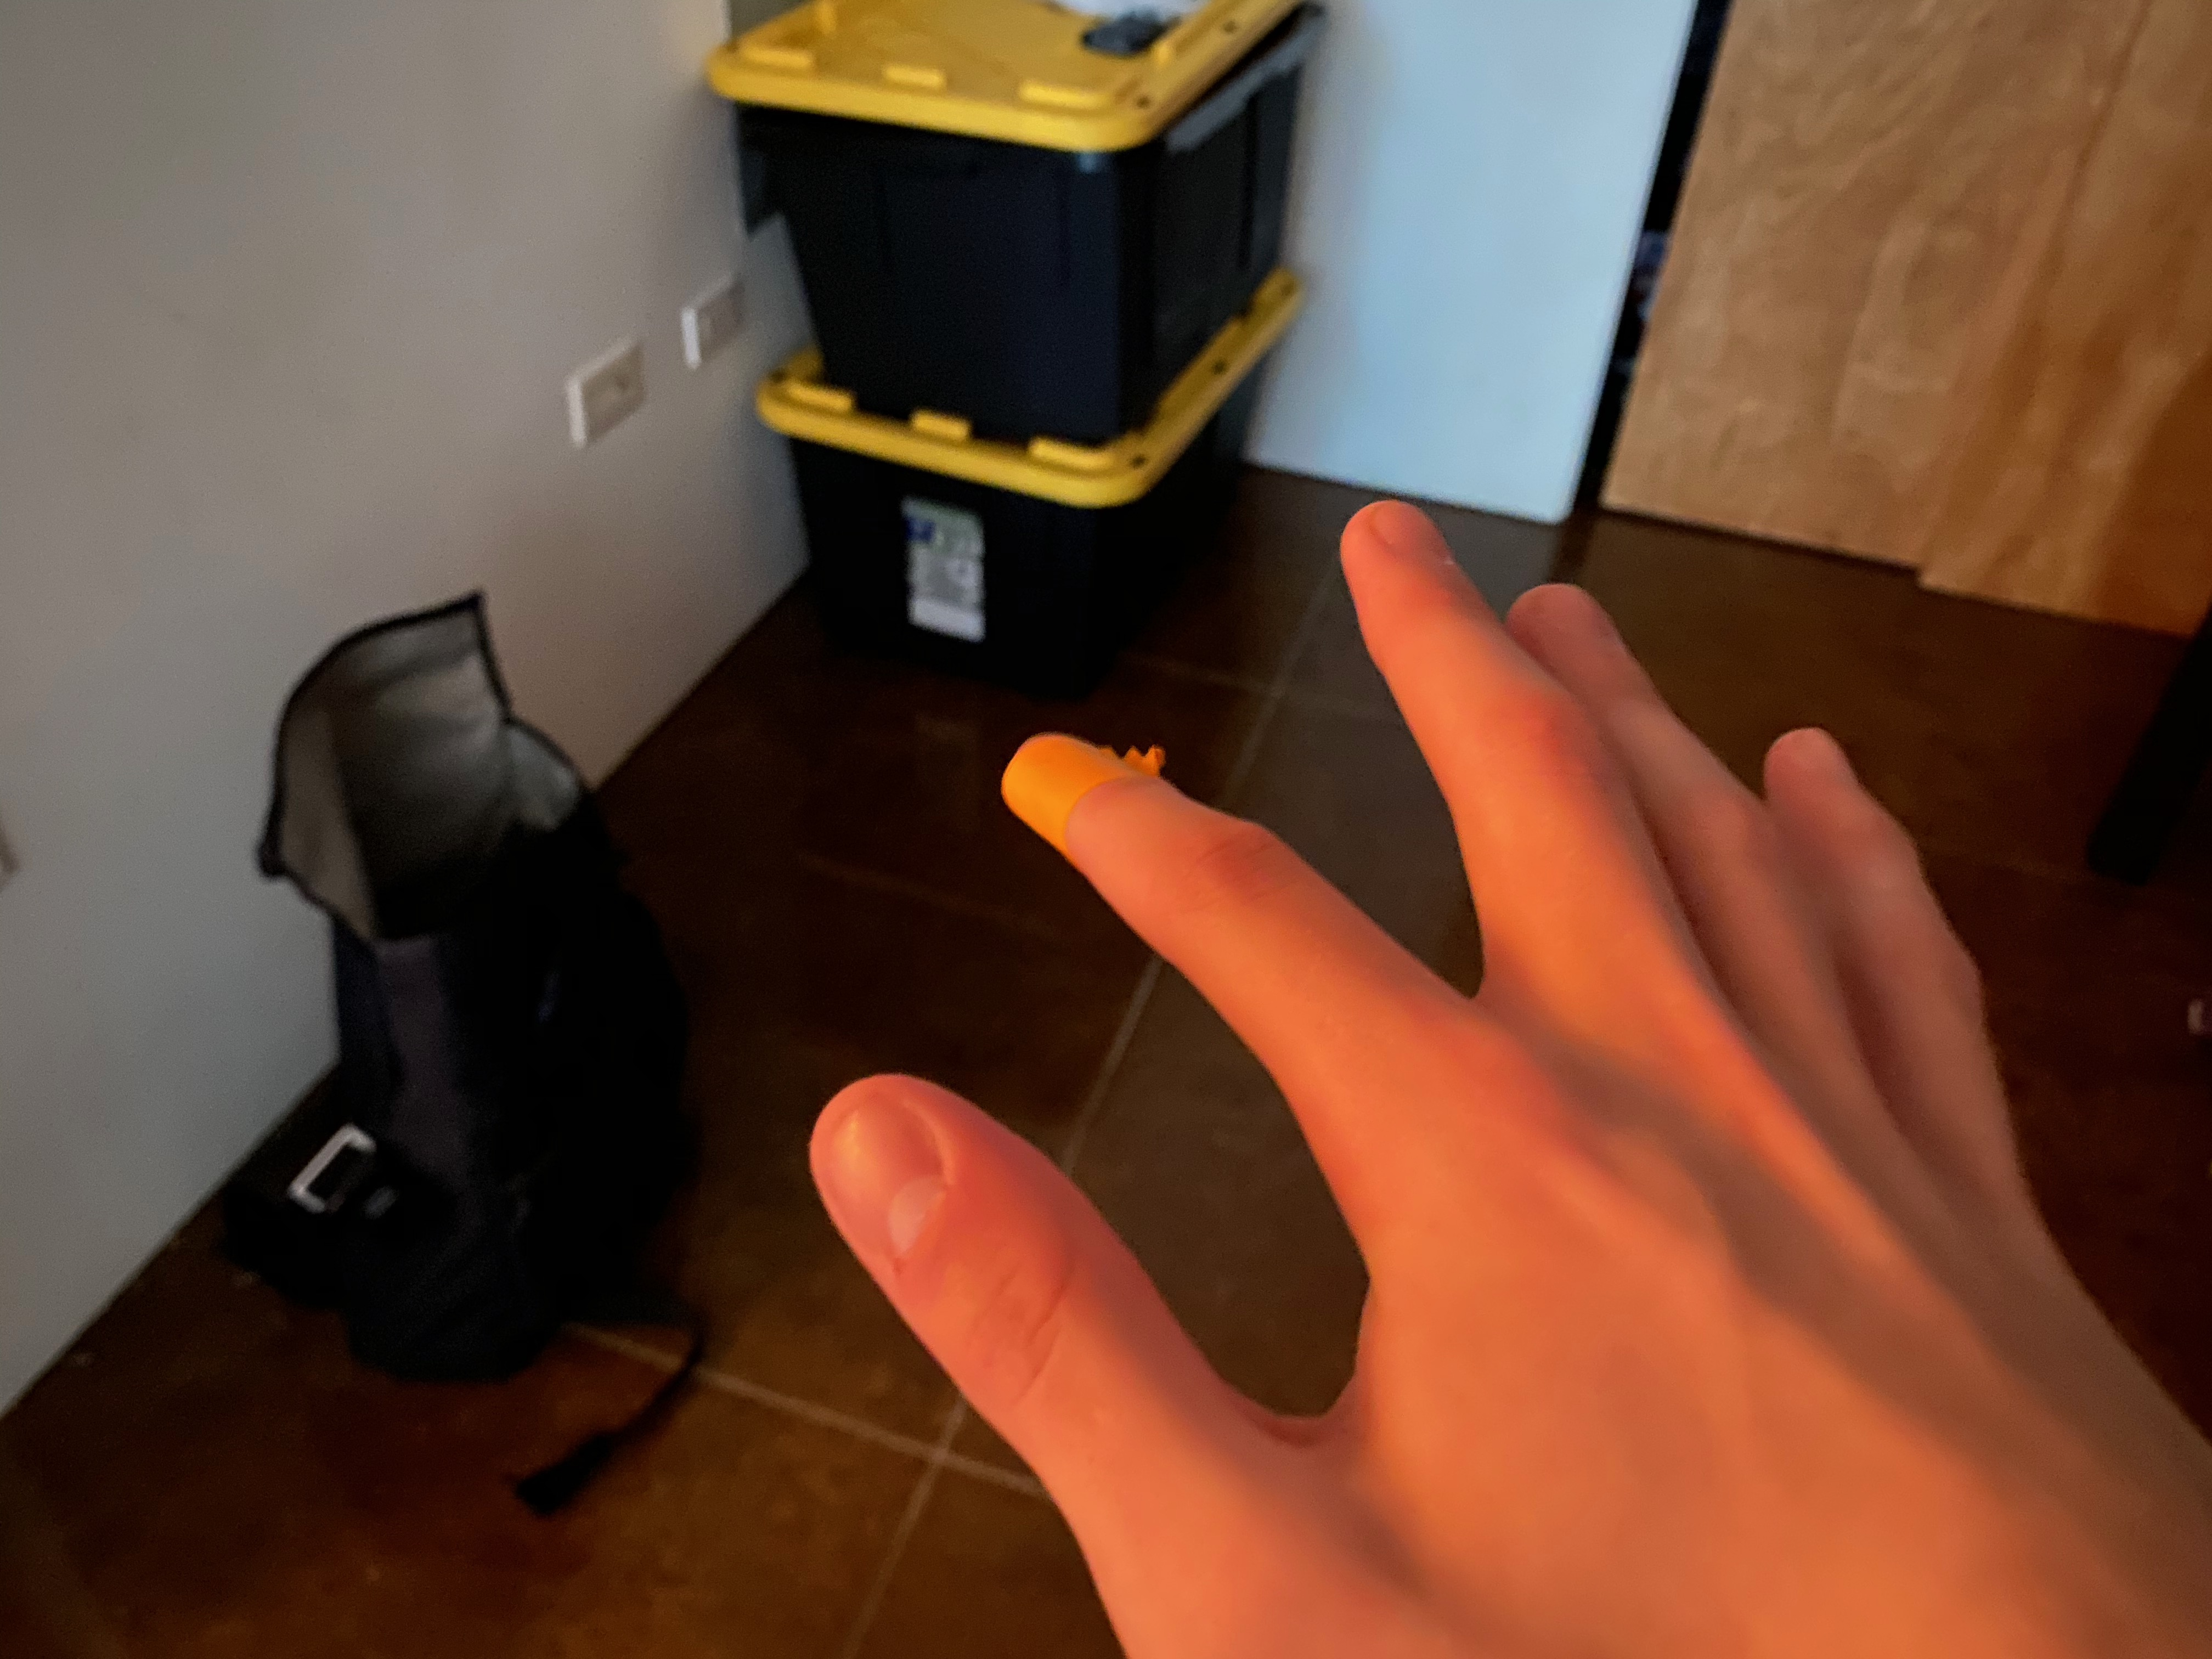fingertip: (981, 711, 1231, 915)
